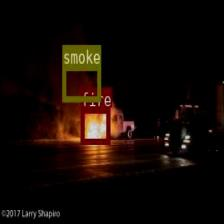fire: (80, 107, 109, 144)
smoke: (62, 64, 100, 100)
